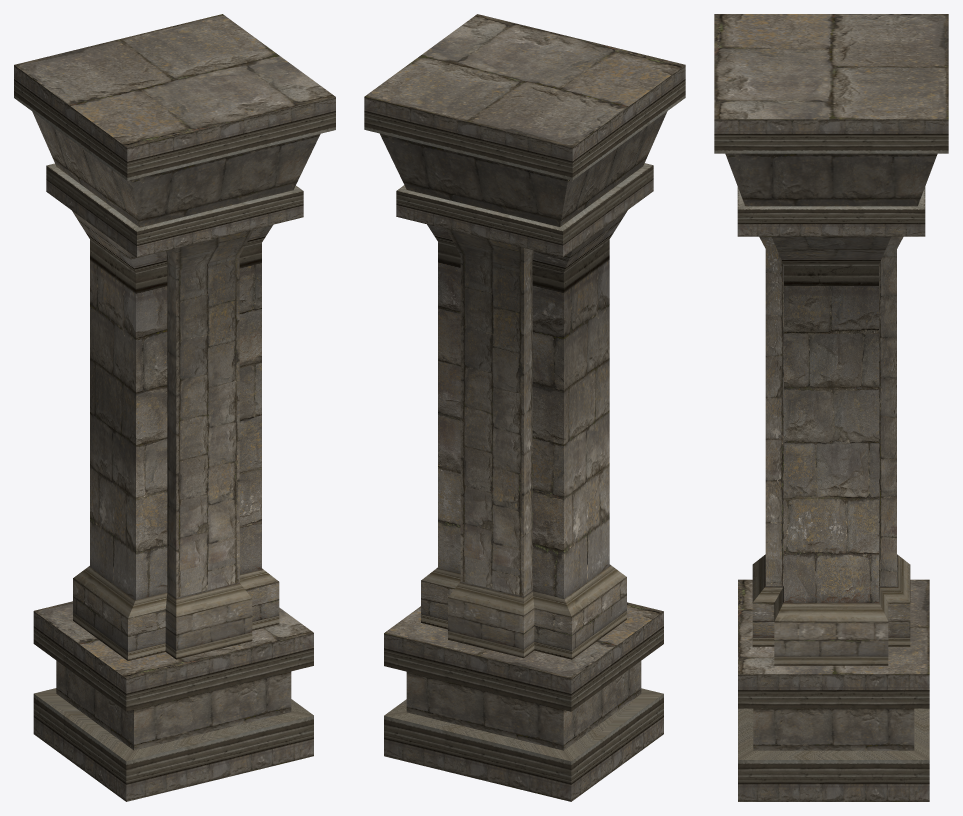
Rendered from pillar_type008.FBX.
3 views of the same model, side by side, from view 1: azimuth 30°, elevation 25°; view 2: azimuth 150°, elevation 25°; view 3: azimuth 270°, elevation 25° (orthographic). The views are drawn at different scales.
Visible parts, largest first — view 1: pillar_type008; view 2: pillar_type008; view 3: pillar_type008.
Part boxes in pixels (left/top/right/bottom): pillar_type008: left=14, top=14, right=335, bottom=801; pillar_type008: left=364, top=14, right=685, bottom=801; pillar_type008: left=714, top=14, right=948, bottom=801.
Size of the model in its own units: 166 by 506 by 156.
Materials: 1 (1 with a texture image).
